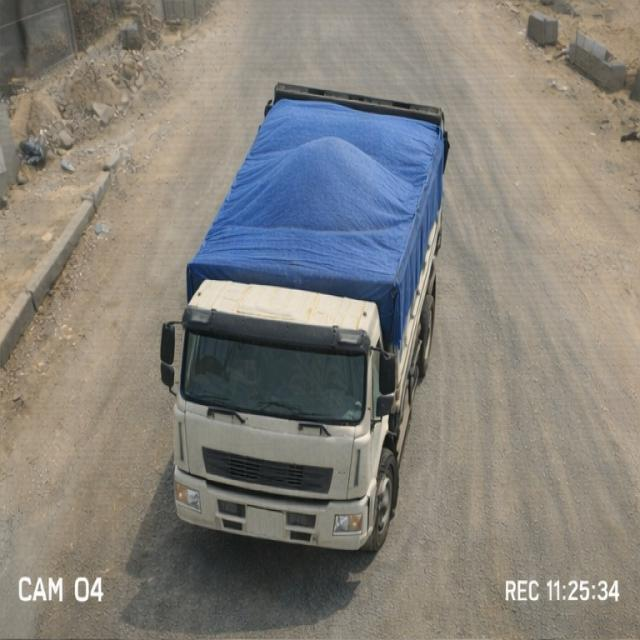trailer: (188, 82, 446, 292)
truck: (149, 66, 455, 546)
